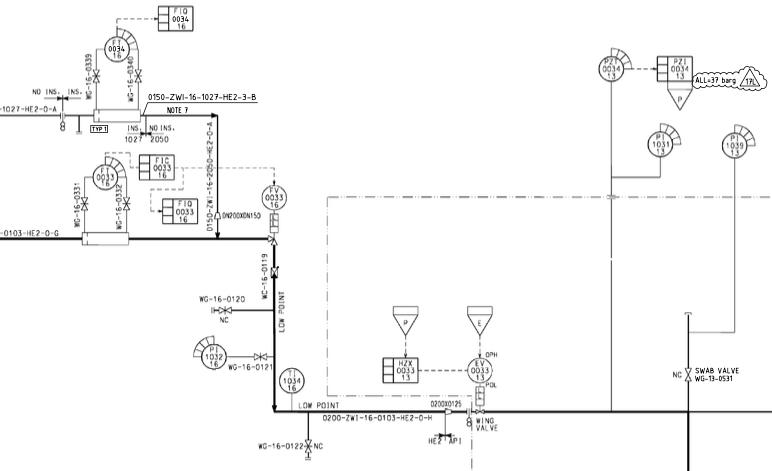Instrument: (717, 128, 748, 161), (277, 365, 308, 396), (463, 354, 495, 384), (645, 129, 675, 159), (199, 340, 229, 370), (596, 54, 626, 83), (261, 182, 288, 213), (103, 33, 131, 62), (93, 162, 119, 191)
Instrument-square: (158, 195, 201, 227), (378, 355, 422, 386), (137, 151, 177, 183), (655, 53, 695, 83), (161, 2, 198, 34)
